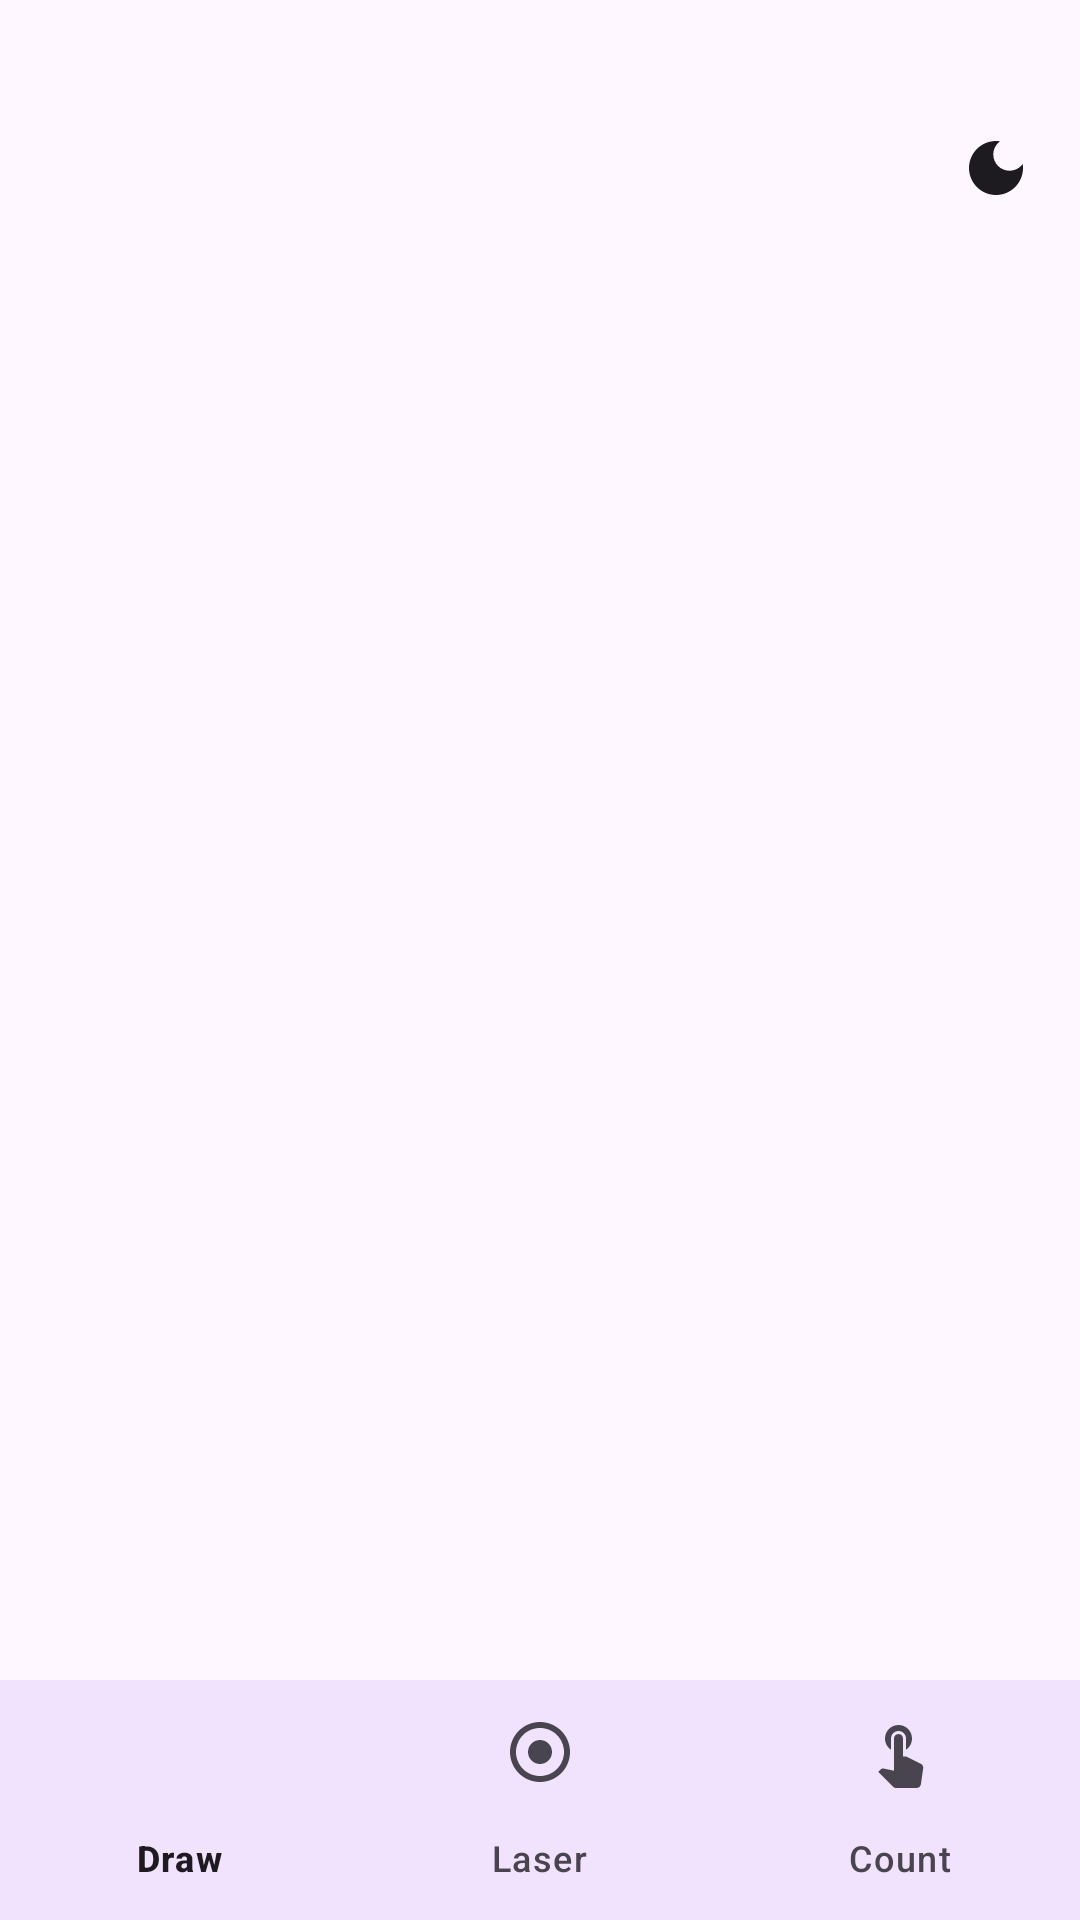

Icons on this 1080×1920 Android screen, each with its box as {"left": x1, "top": y1, "right": x2, "bottom": y2}:
Toggle dark mode: {"left": 969, "top": 141, "right": 1023, "bottom": 195}
